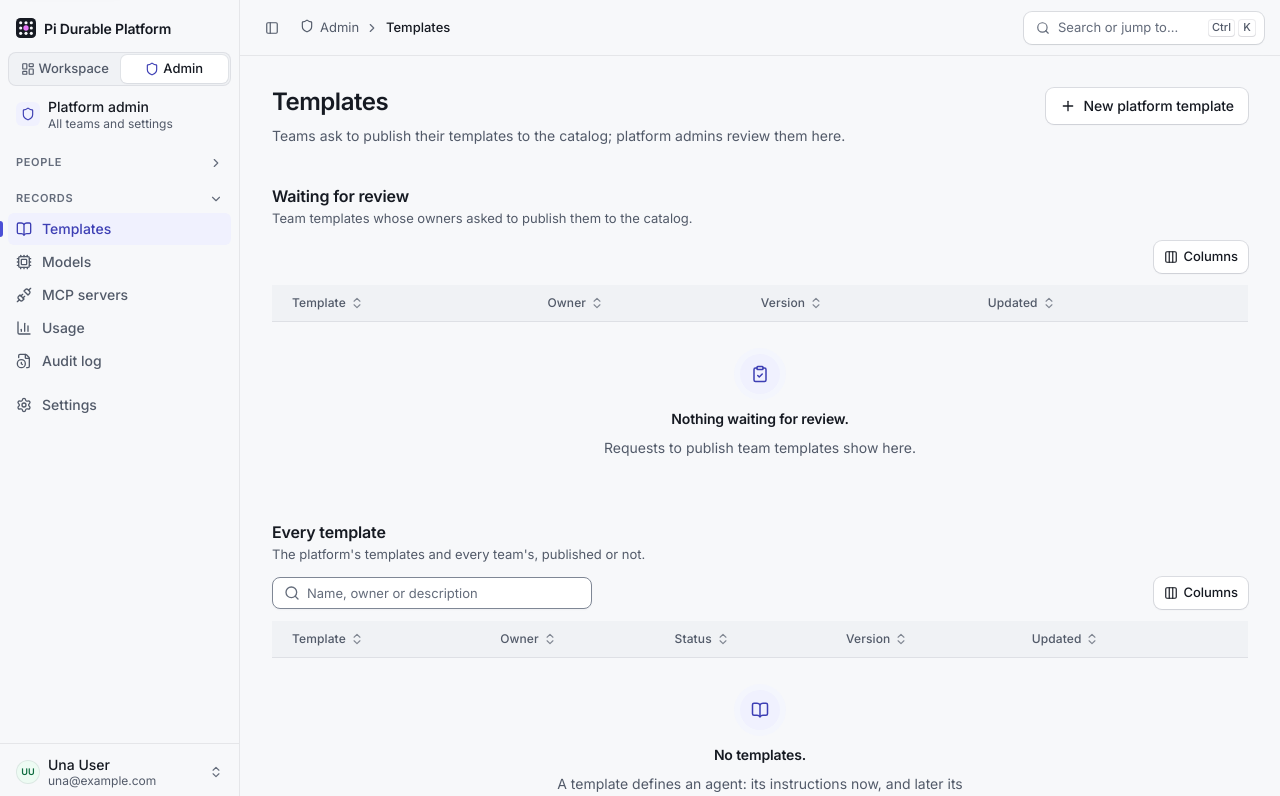
Test case: attaching a team's own MCP server › offers a platform template only the platform's servers (?owner=platform)
The image size is (1280, 796).
Click the button "New platform template". click: [1147, 106]
box: x1=1046 y1=88 x2=1248 y2=124
(page scrolled)
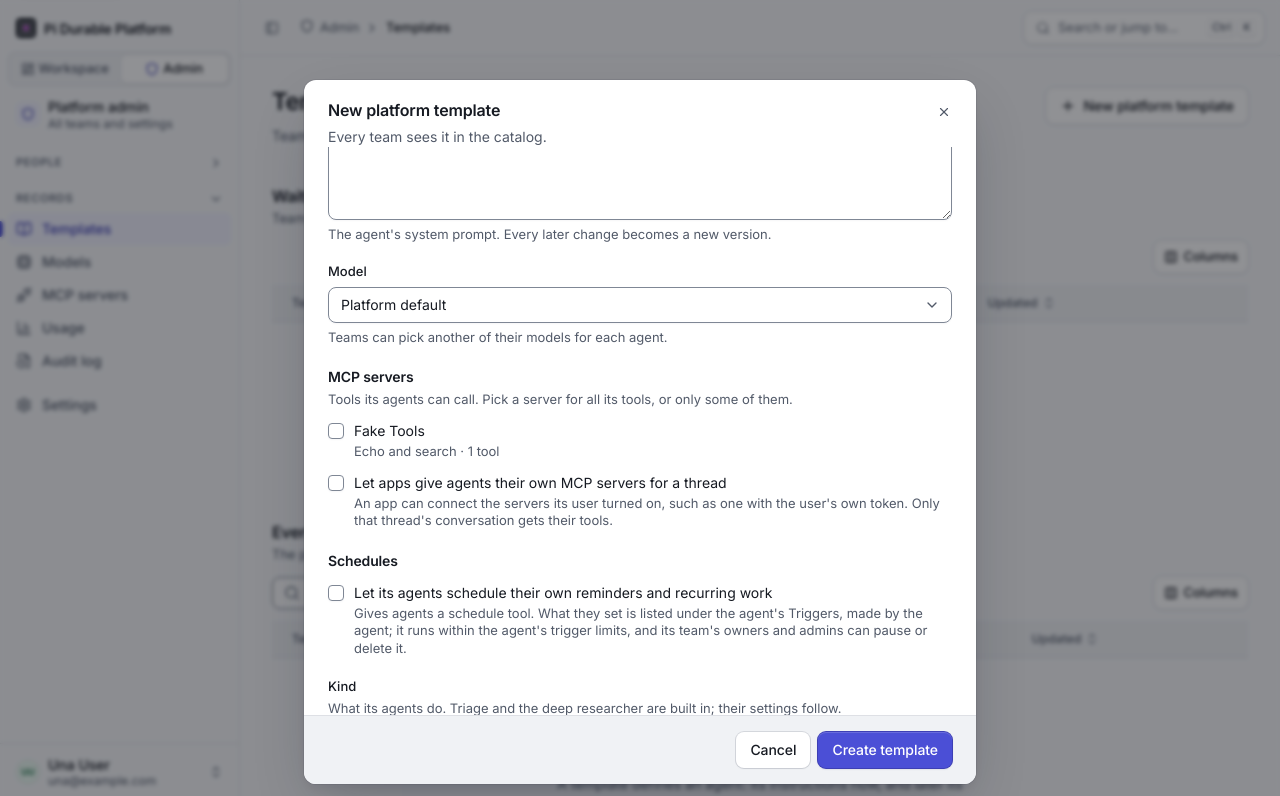
Expected: the checkbox named "Fake Tools" next to "Fake Tools" is shown, x1=328 y1=423 x2=344 y2=439
